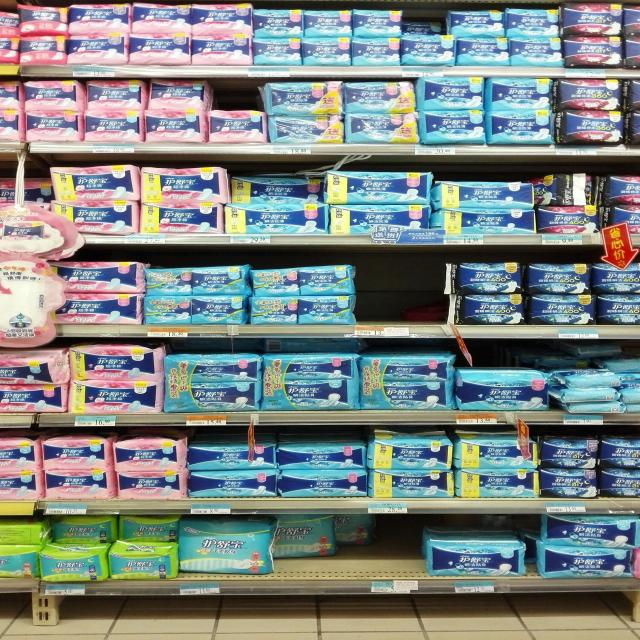void: (359, 255, 404, 338), (406, 260, 453, 338)
